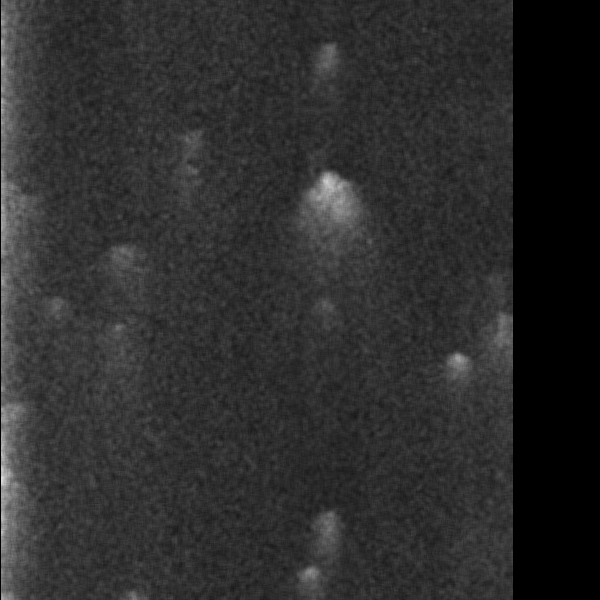spark: (143, 534, 188, 580), (135, 215, 170, 266), (254, 338, 283, 365)
